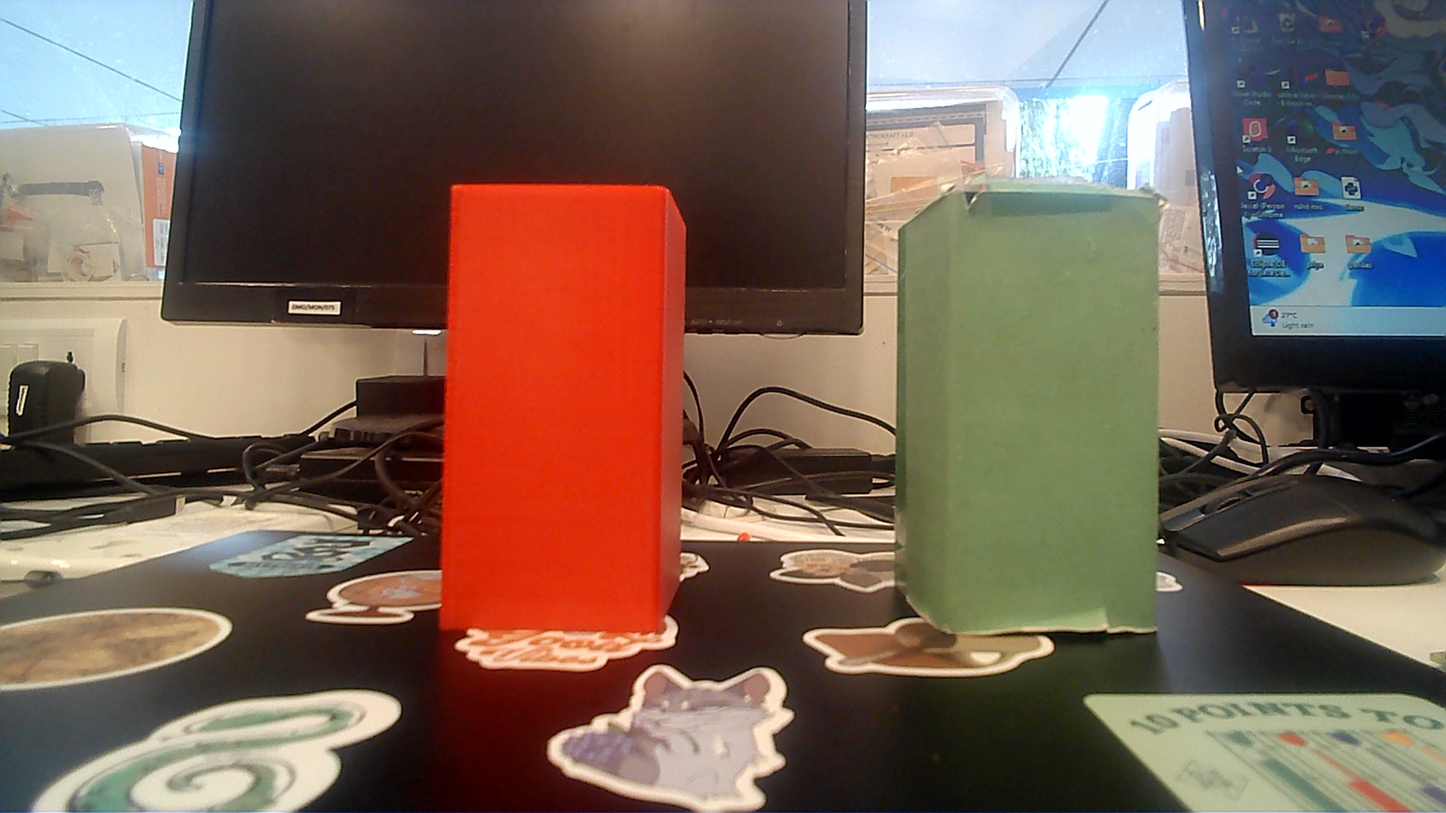red: (447, 181, 686, 632)
